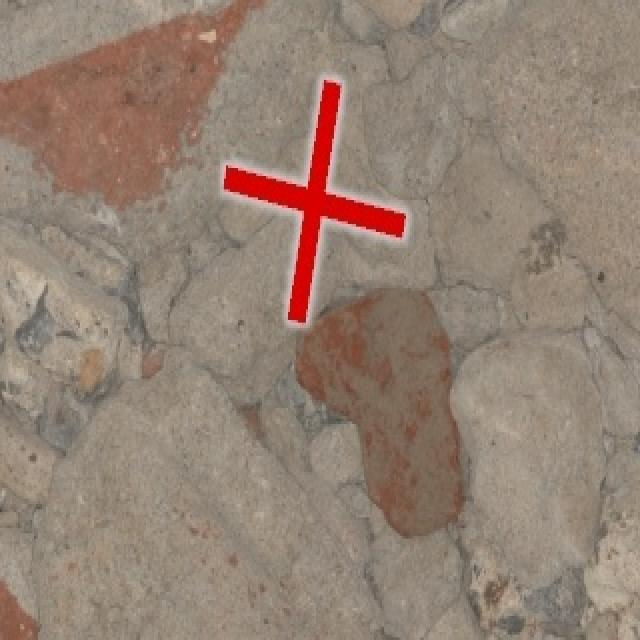x_marker: (223, 79, 405, 321)
